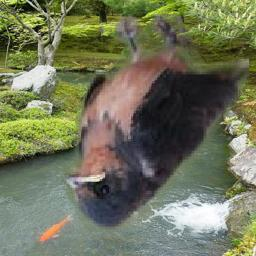Swallow: (61, 14, 249, 232)
